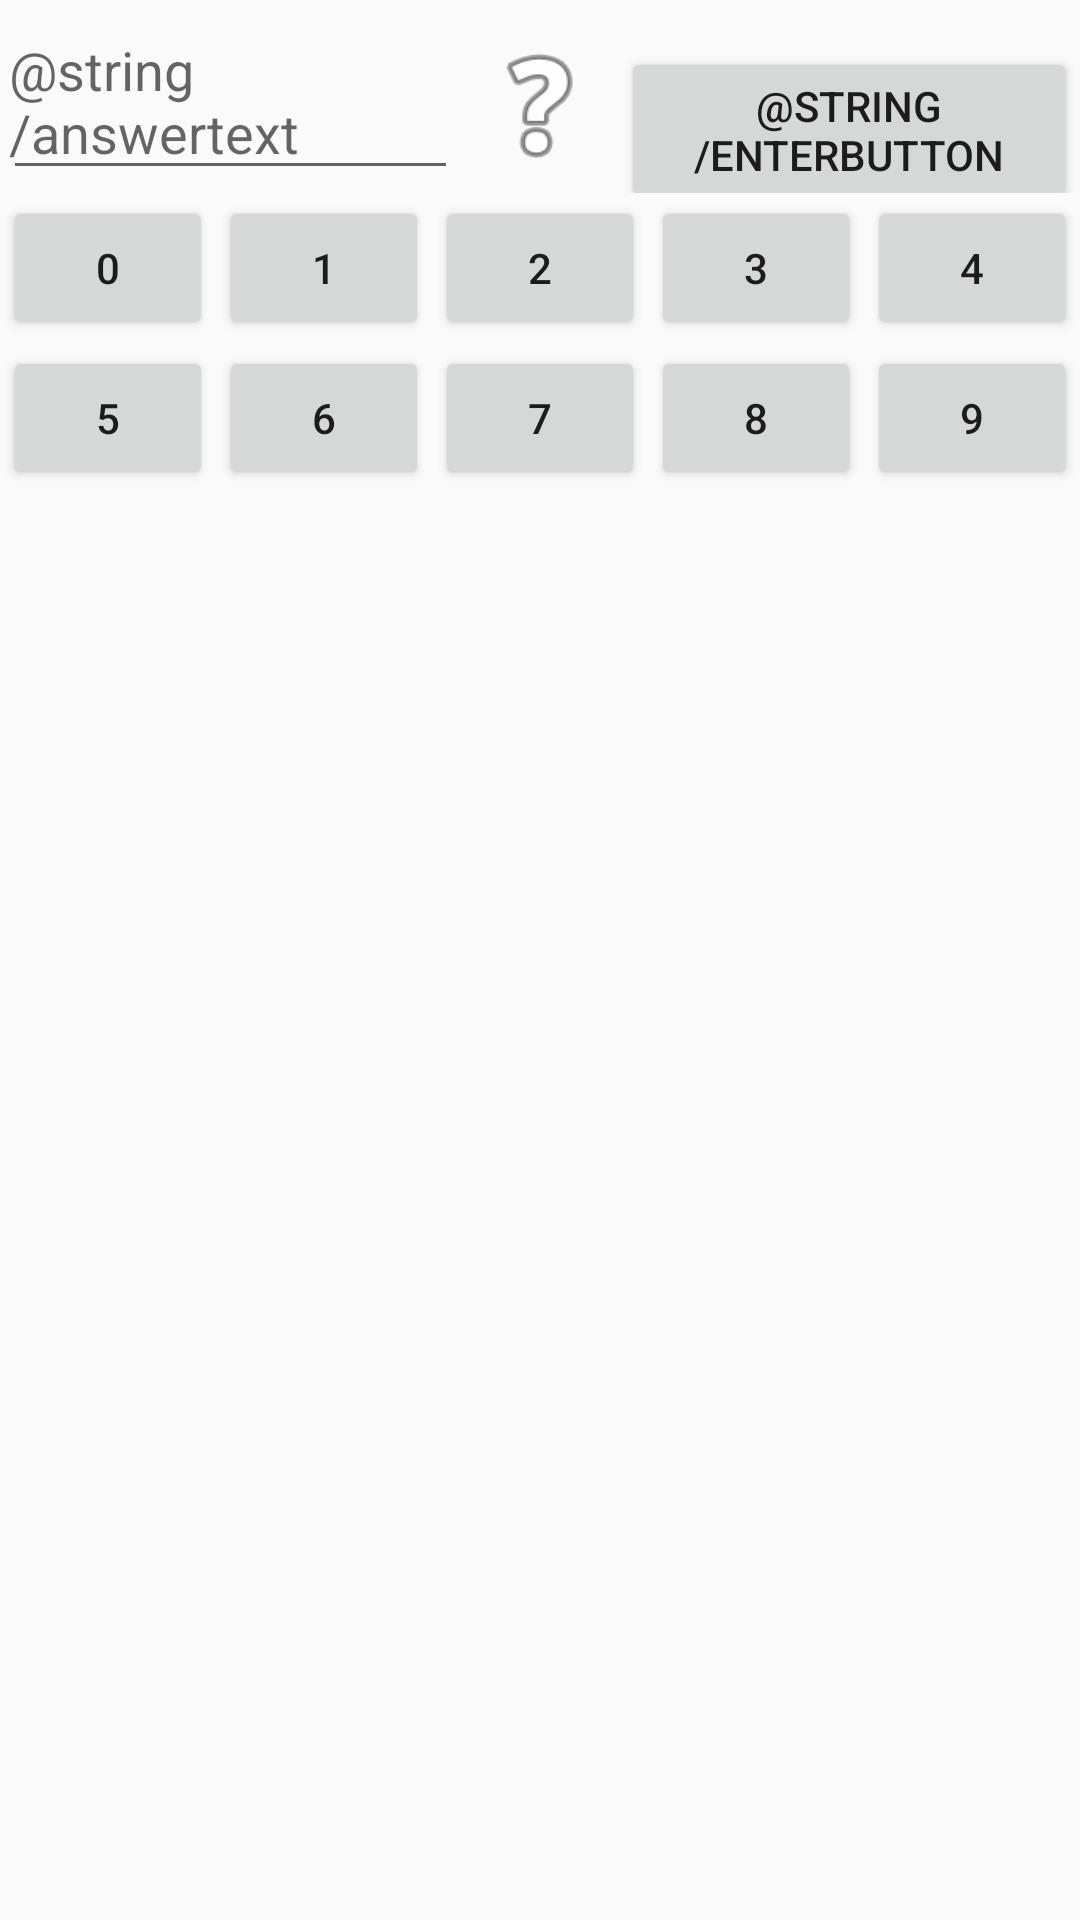

Where icons sit on this 1080w x 1920h app screen, as (x1, y1, x2, y2):
help: (506, 54, 573, 158)
